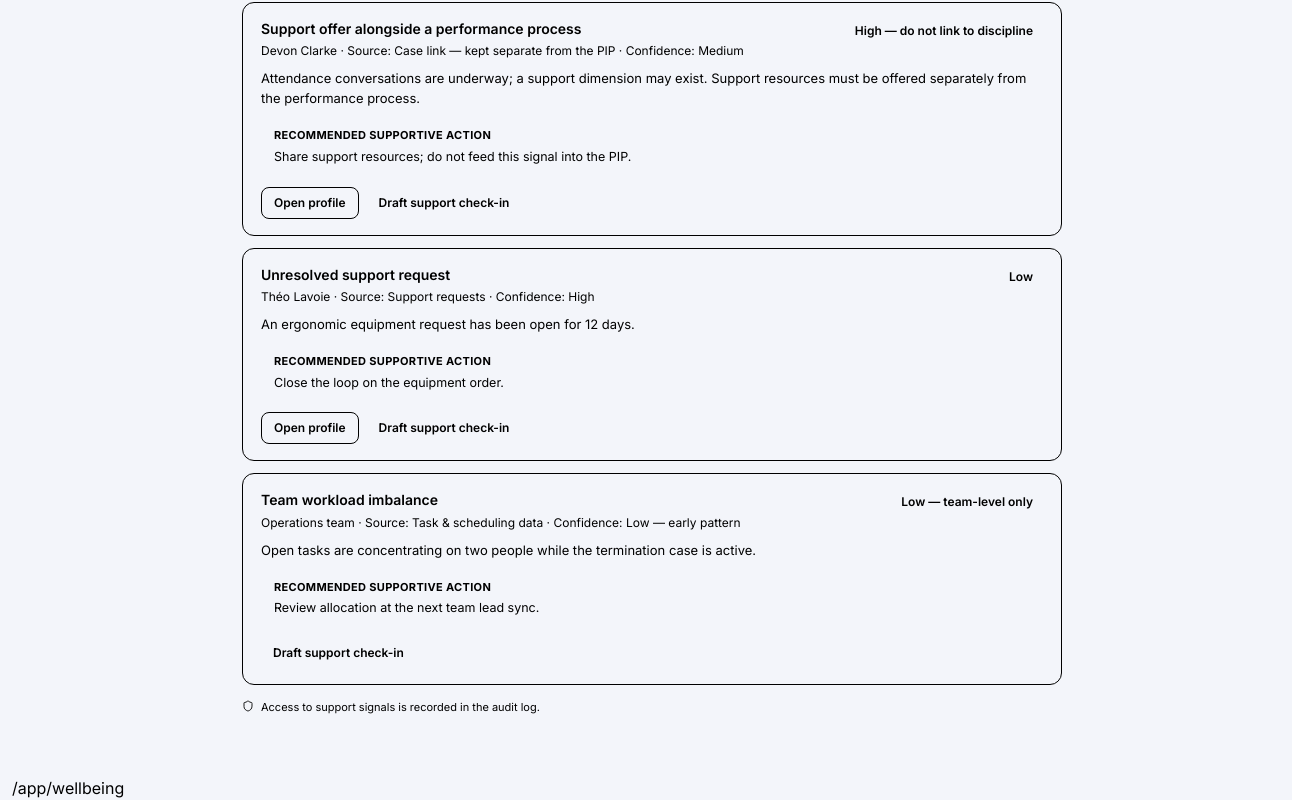
WellbeingView › routes team-level signals straight to Communications
(page scrolled)
Click the button "Draft support check-in" below "Operations team".
click(338, 653)  # box [261,638,416,668]
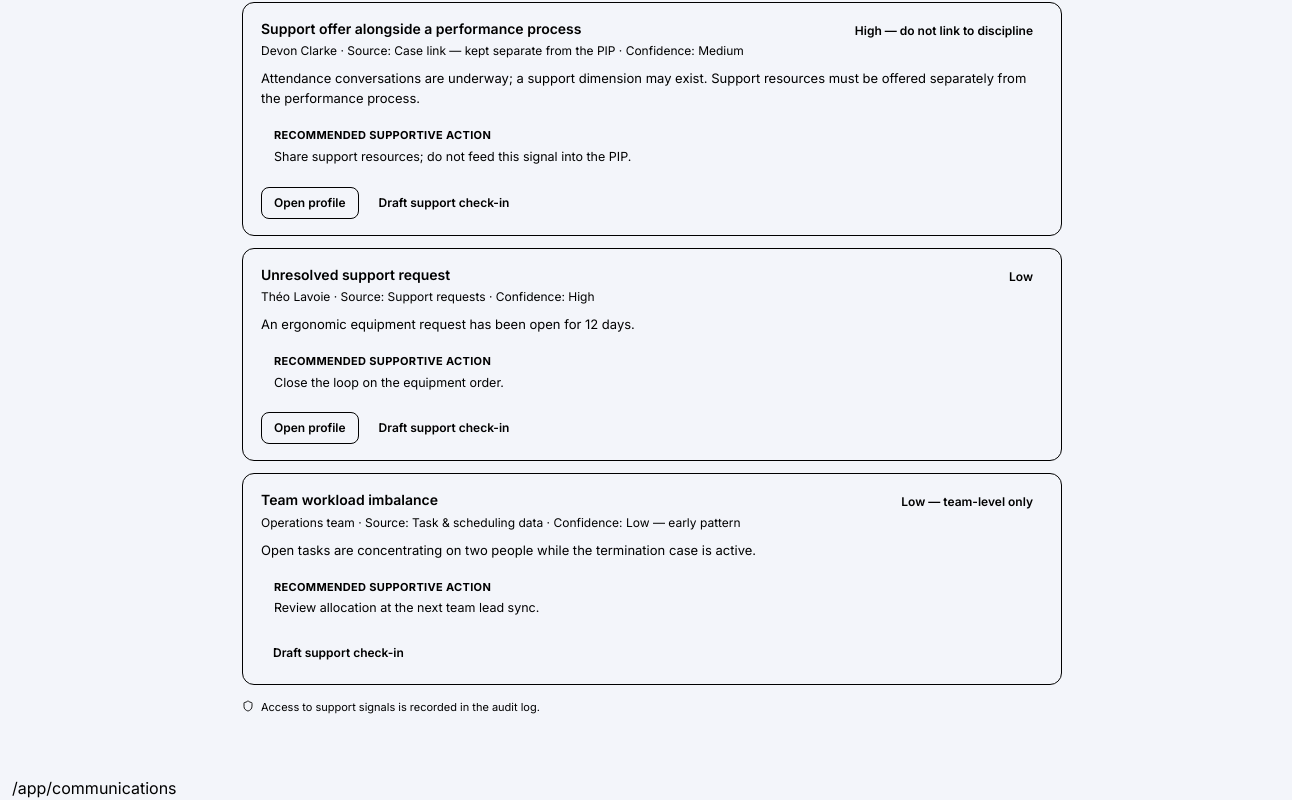
Now the text with test id "location" reads "/app/communications", box [12,778,176,798]
